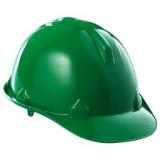Helmet: (2, 15, 157, 144)
